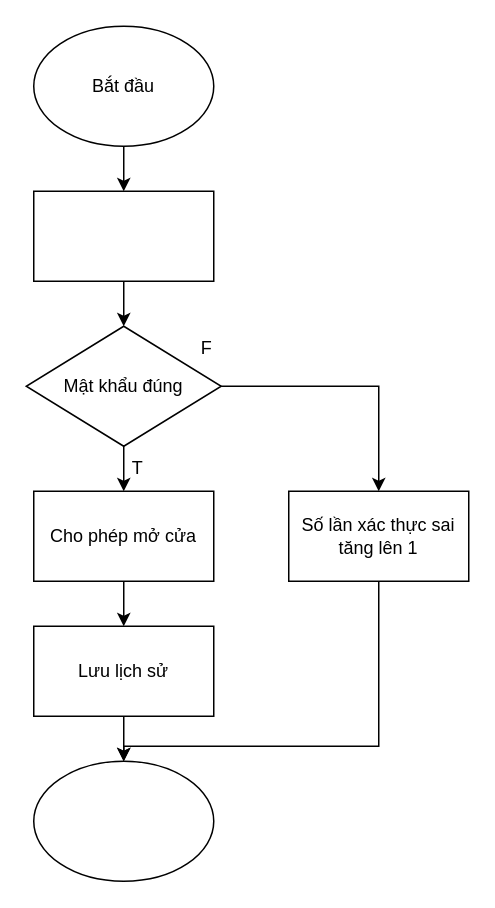
Some shapes in this 495 by 908 pixel diagram are drawn without their labels. Each missing label, with the centre of its shape:
"Kết thúc" belongs at (x=123, y=820).
"Lấy chuỗi mật khẩu đã nhập" belongs at (x=123, y=235).
